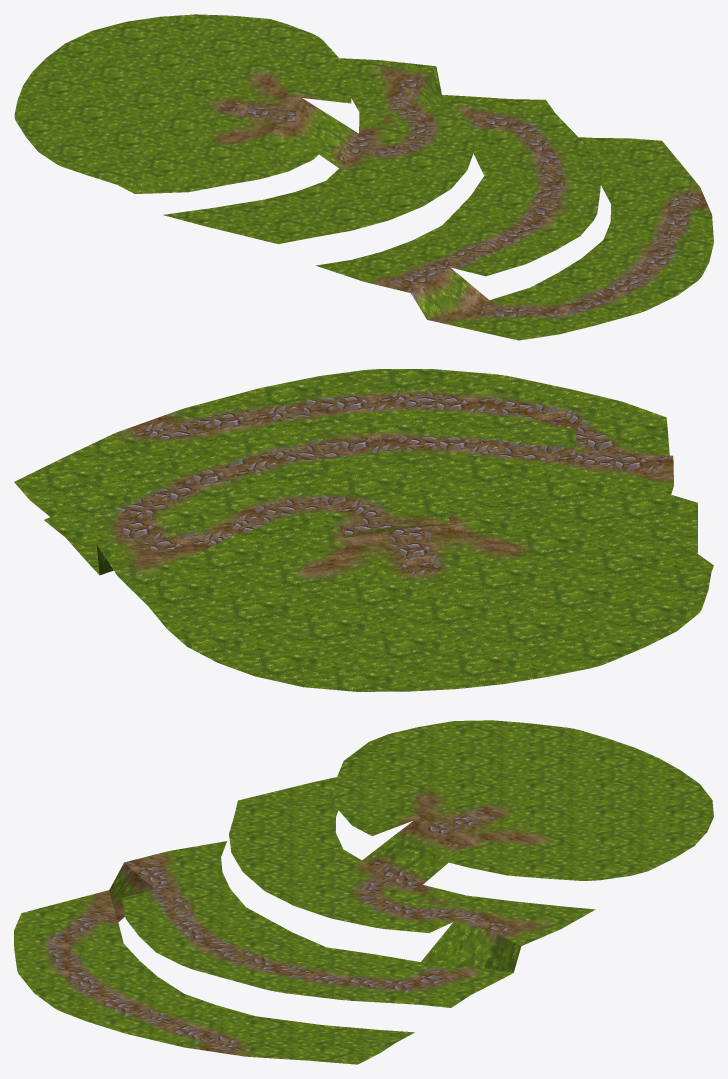
Rendered from 0_Floor_1_Alpha.FBX.
3 views of the same model, one above another, from view 1: azimuth 30°, elevation 25°; view 2: azimuth 150°, elevation 25°; view 3: azimuth 270°, elevation 25° (orthographic). The views are drawn at different scales.
Visible parts, largest first — view 1: 0_Floor_1; view 2: 0_Floor_1; view 3: 0_Floor_1.
Part boxes in pixels (x1,y1,x2,y2): 0_Floor_1: (14, 14, 713, 340); 0_Floor_1: (14, 369, 713, 691); 0_Floor_1: (14, 720, 713, 1064).
Size of the model in its own units: 3524 by 460 by 3863.
